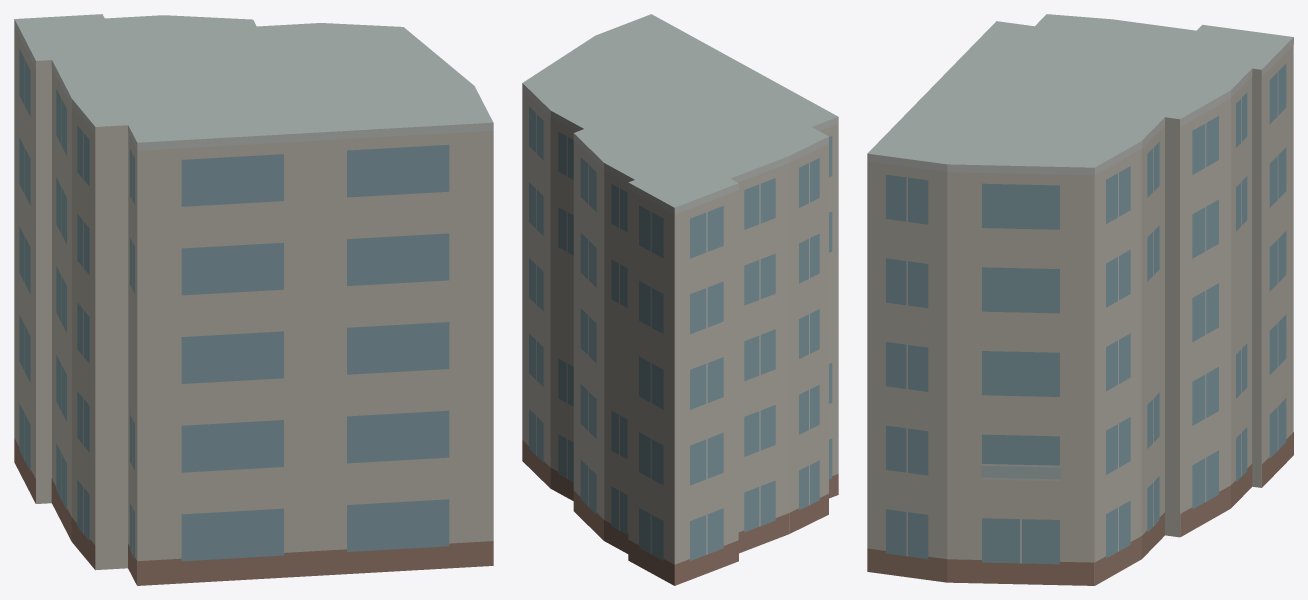
File: survey-upis-32616060.glb
3 renders of one model, left to right at view 1: azimuth 30°, elevation 25°; view 2: azimuth 150°, elevation 25°; view 3: azimuth 270°, elevation 25°, orthographic. The views are drawn at different scales.
Parts seen in each view (by area): view 1: survey-upis-32616060.tmp; view 2: survey-upis-32616060.tmp; view 3: survey-upis-32616060.tmp.
Part boxes in pixels (x1,y1,x2,y2): survey-upis-32616060.tmp: (14, 14, 493, 585); survey-upis-32616060.tmp: (522, 14, 838, 585); survey-upis-32616060.tmp: (867, 14, 1293, 585).
Bounding box in the file's own units: 10.49 × 13.3 × 12.3.
